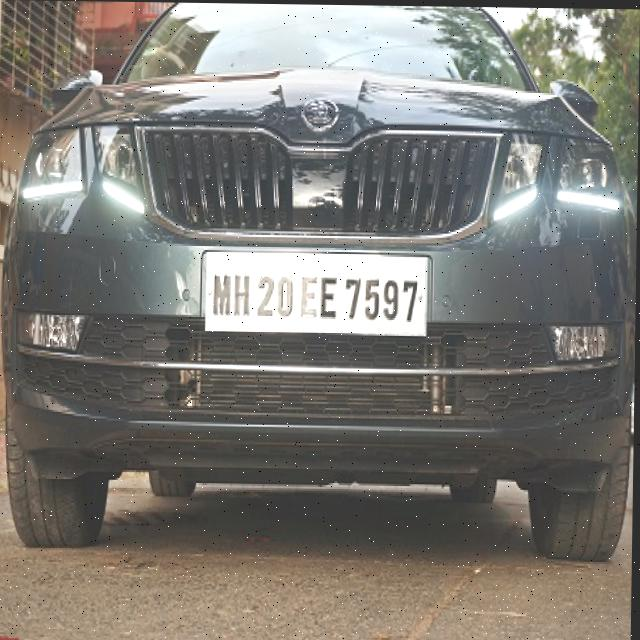plate: (199, 243, 431, 337)
